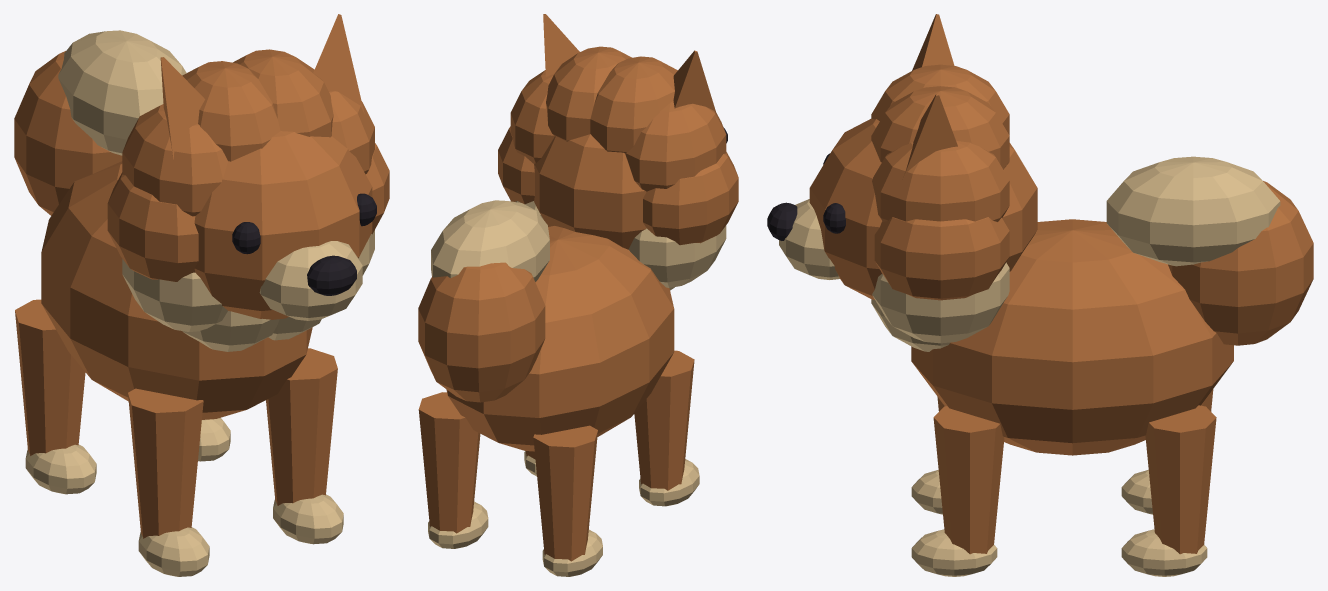
The model's file is pomeranian.fbx.
3 renders of one model, left to right at view 1: azimuth 30°, elevation 25°; view 2: azimuth 150°, elevation 25°; view 3: azimuth 270°, elevation 25°, orthographic. The views are drawn at different scales.
Parts seen in each view (by area): view 1: Body, Tail, ForeLeft, ForeRight, HindLeft, HindRight; view 2: Body, Tail, HindLeft, HindRight, ForeLeft; view 3: Body, Tail, HindRight, ForeRight, HindLeft, ForeLeft.
Part boxes in pixels (x1,y1,x2,y2): Body: (41, 14, 389, 419); Tail: (14, 30, 186, 215); ForeLeft: (128, 388, 209, 576); ForeRight: (266, 348, 343, 544); HindLeft: (15, 299, 96, 494); HindRight: (198, 417, 230, 461); Body: (446, 14, 738, 451); Tail: (418, 200, 549, 402); HindLeft: (533, 425, 602, 576); HindRight: (418, 392, 488, 548); ForeLeft: (634, 350, 699, 506); Body: (767, 14, 1233, 455); Tail: (1106, 156, 1313, 345); HindRight: (1121, 405, 1216, 576); ForeRight: (911, 406, 1004, 576); HindLeft: (1121, 389, 1213, 514); ForeLeft: (911, 396, 944, 514).
Size of the model in its own units: 41.17 by 79.89 by 80.92.
